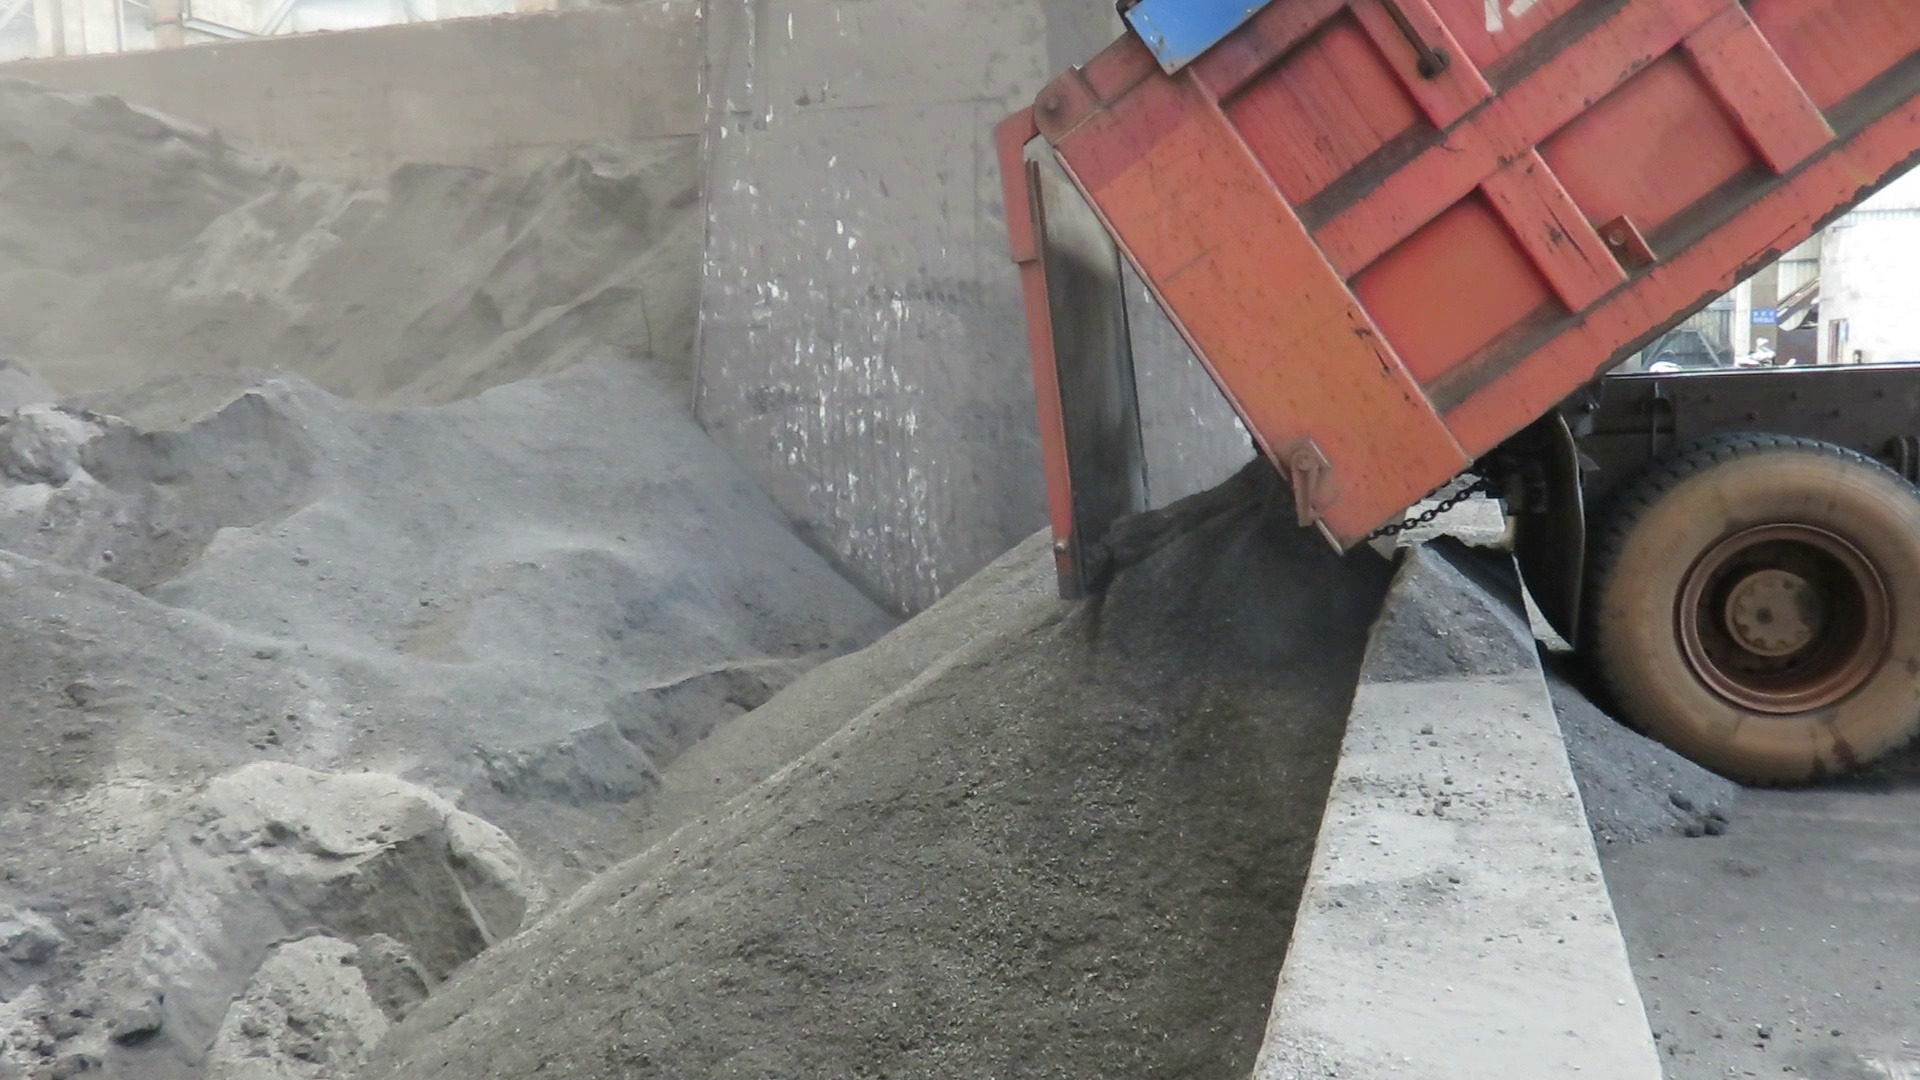dust: (8, 44, 1001, 800)
truck: (982, 0, 1920, 812)
